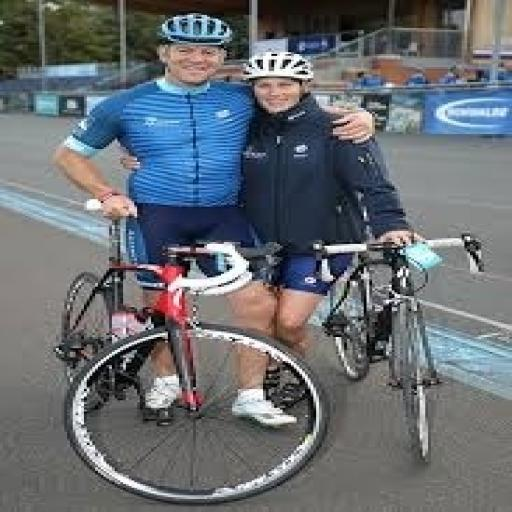cycling: (50, 11, 380, 428)
